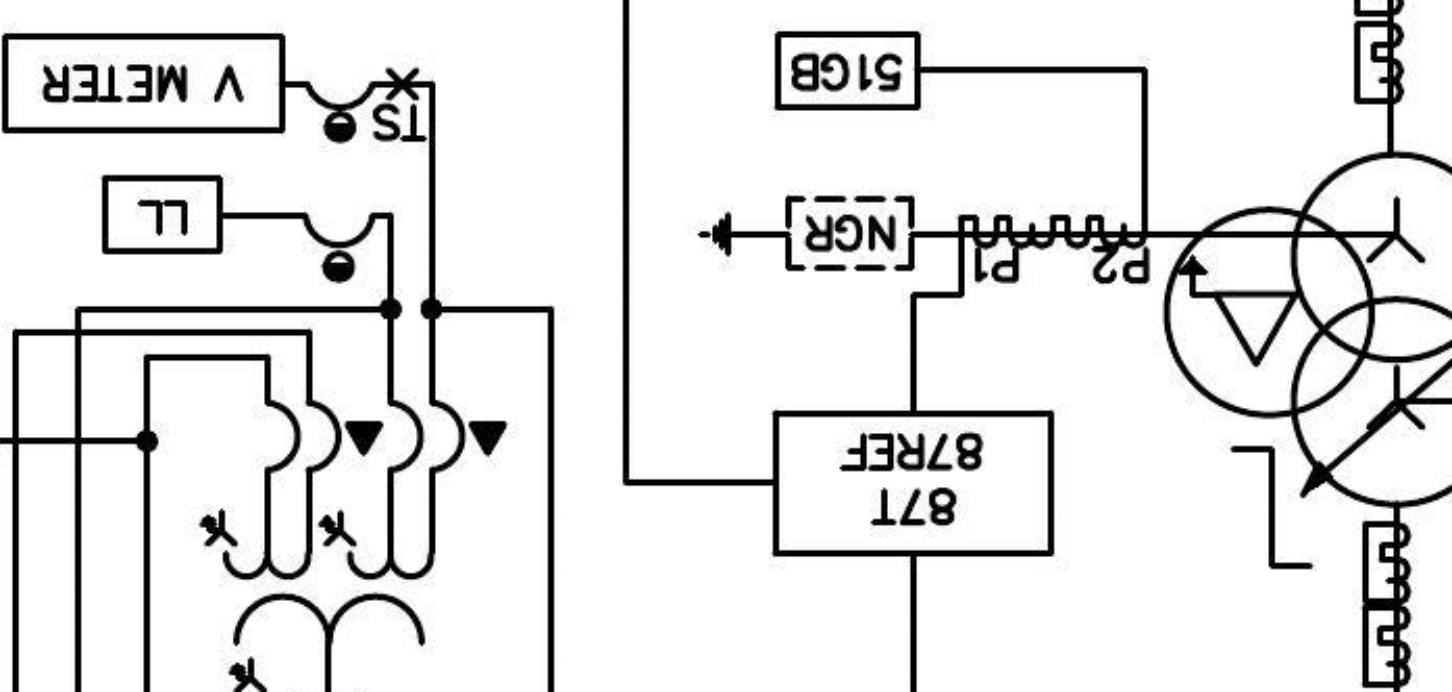LL: (100, 172, 224, 257)
NGR_future: (696, 194, 917, 272)
v_m_digital: (0, 31, 288, 135)
